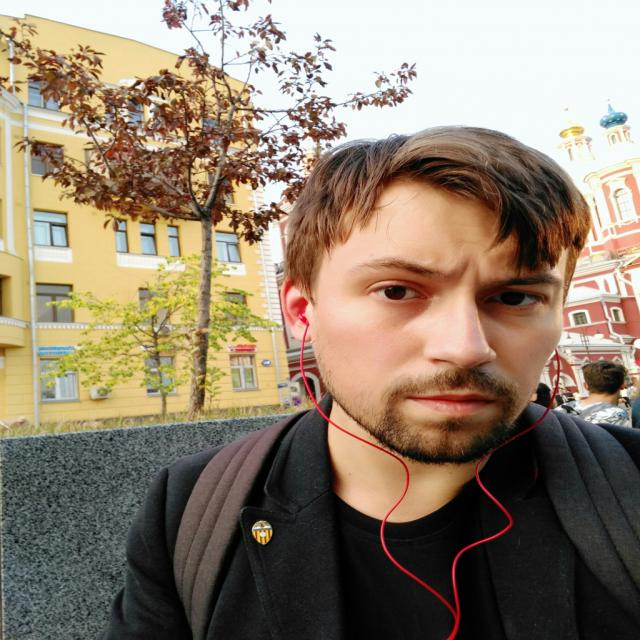earlobe: (280, 274, 313, 343)
